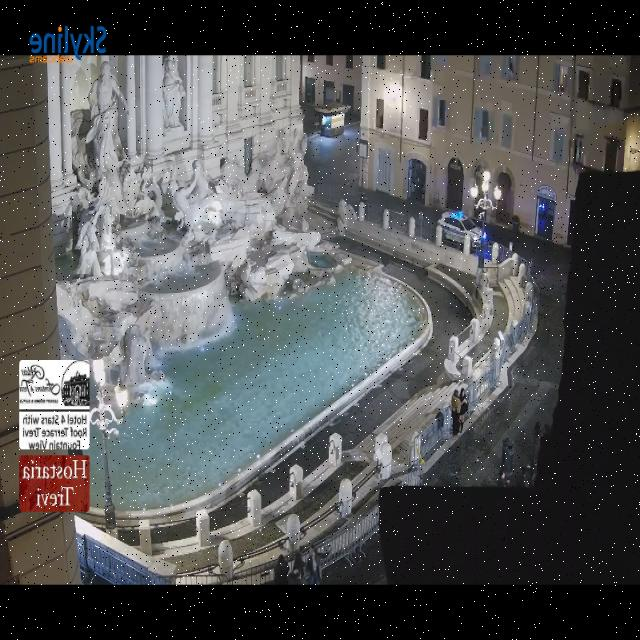person: (305, 548, 327, 584), (287, 552, 303, 584), (273, 555, 288, 584), (532, 422, 541, 468), (451, 390, 459, 436), (459, 388, 467, 430), (292, 552, 303, 577), (287, 570, 303, 584)
